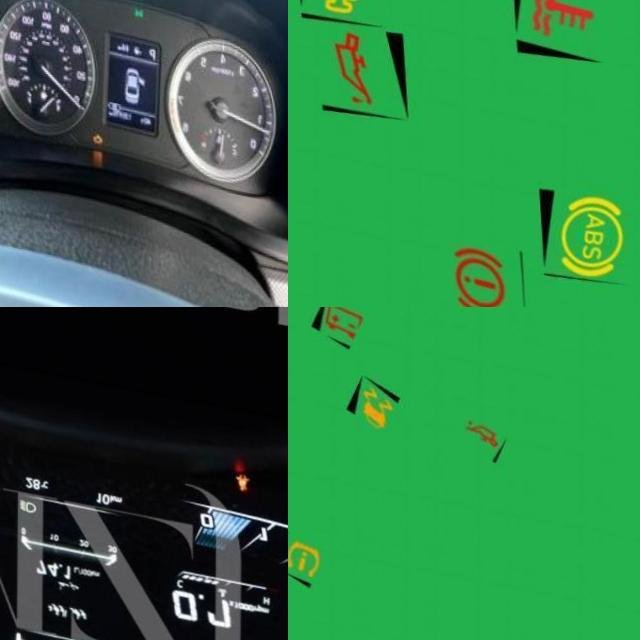Seat Belt: (237, 453, 250, 472)
